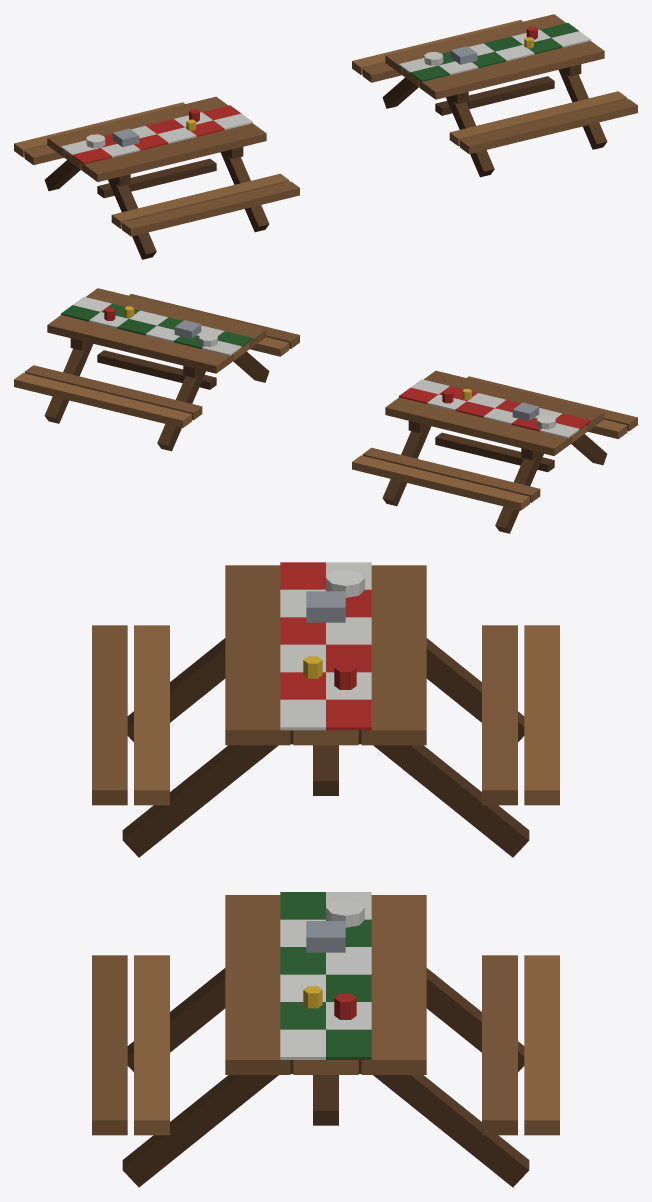
The model's file is Decor_FoodTruck_Tables.fbx.
3 renders of one model, top to bottom at view 1: azimuth 30°, elevation 25°; view 2: azimuth 150°, elevation 25°; view 3: azimuth 270°, elevation 25°, orthographic. The views are drawn at different scales.
Parts seen in each view (by area): view 1: Tables_Body; view 2: Tables_Body; view 3: Tables_Body.
Part boxes in pixels (x1,y1,x2,y2): Tables_Body: (14, 14, 637, 259); Tables_Body: (14, 288, 637, 533); Tables_Body: (92, 562, 559, 1187).
Size of the model in its own units: 18 by 2.9 by 7.2.
